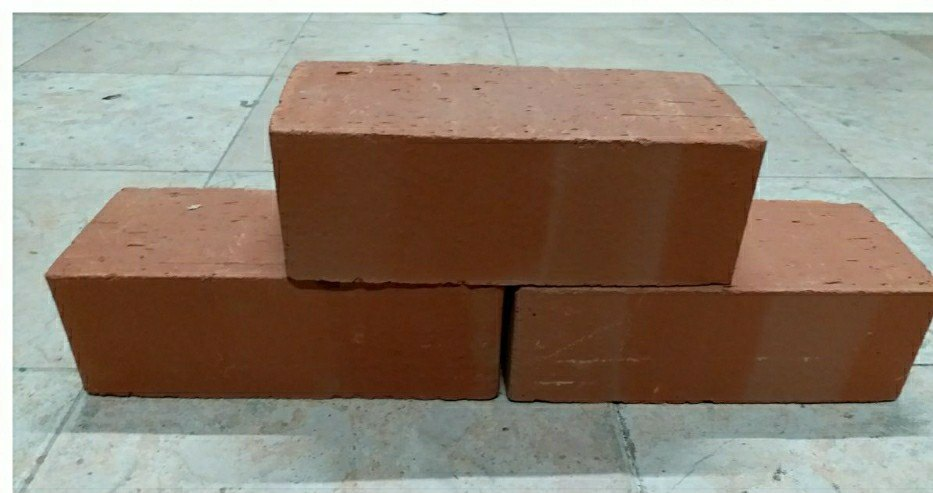brick: (268, 129, 769, 285), (45, 275, 502, 400), (505, 288, 933, 406)
